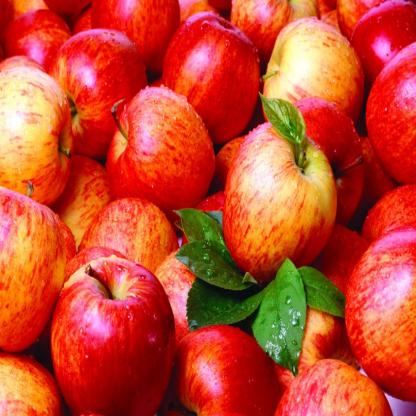apple: (213, 116, 343, 274), (56, 257, 173, 415), (108, 82, 212, 231), (39, 20, 149, 157), (159, 10, 264, 140)
